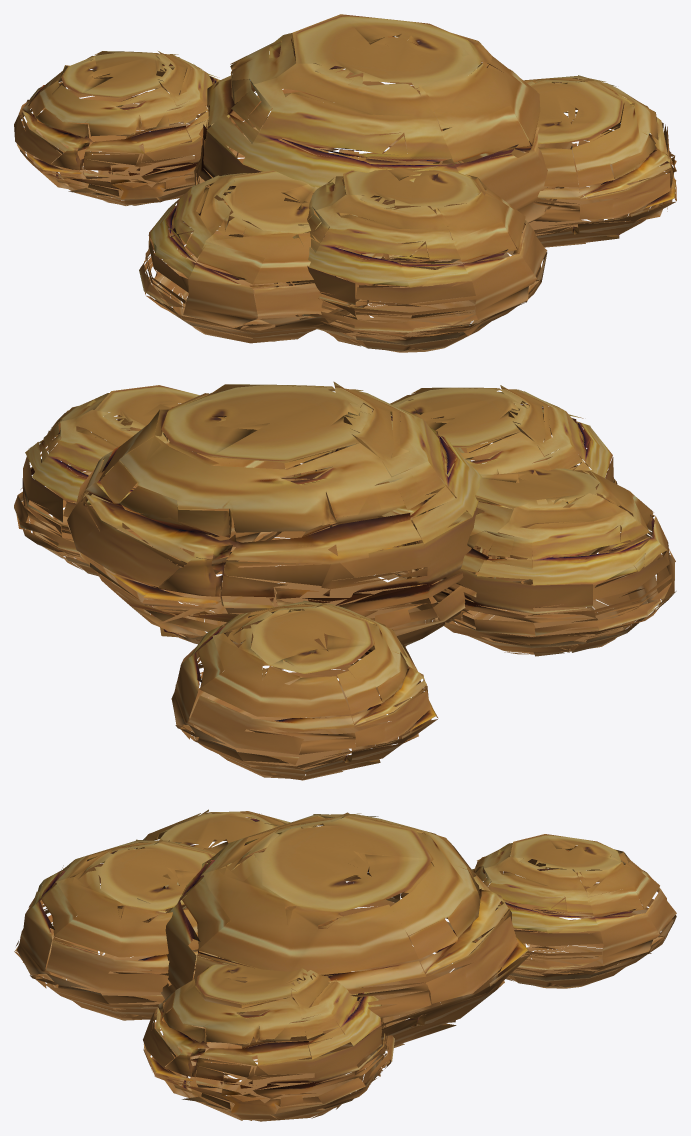
Rendered from desert_boulder_heap.glb.
3 renders of one model, top to bottom at view 1: azimuth 30°, elevation 25°; view 2: azimuth 150°, elevation 25°; view 3: azimuth 270°, elevation 25°, orthographic. The views are drawn at different scales.
Parts seen in each view (by area): view 1: desert_boulder_heap; view 2: desert_boulder_heap; view 3: desert_boulder_heap.
Boxes of the visible parts, bbox=[...] form: desert_boulder_heap: bbox=[14, 14, 676, 352]; desert_boulder_heap: bbox=[14, 381, 676, 780]; desert_boulder_heap: bbox=[14, 809, 676, 1121].
Size of the model in its own units: 2.3 by 0.7968 by 2.57.
Materials: 1 (1 with a texture image).
